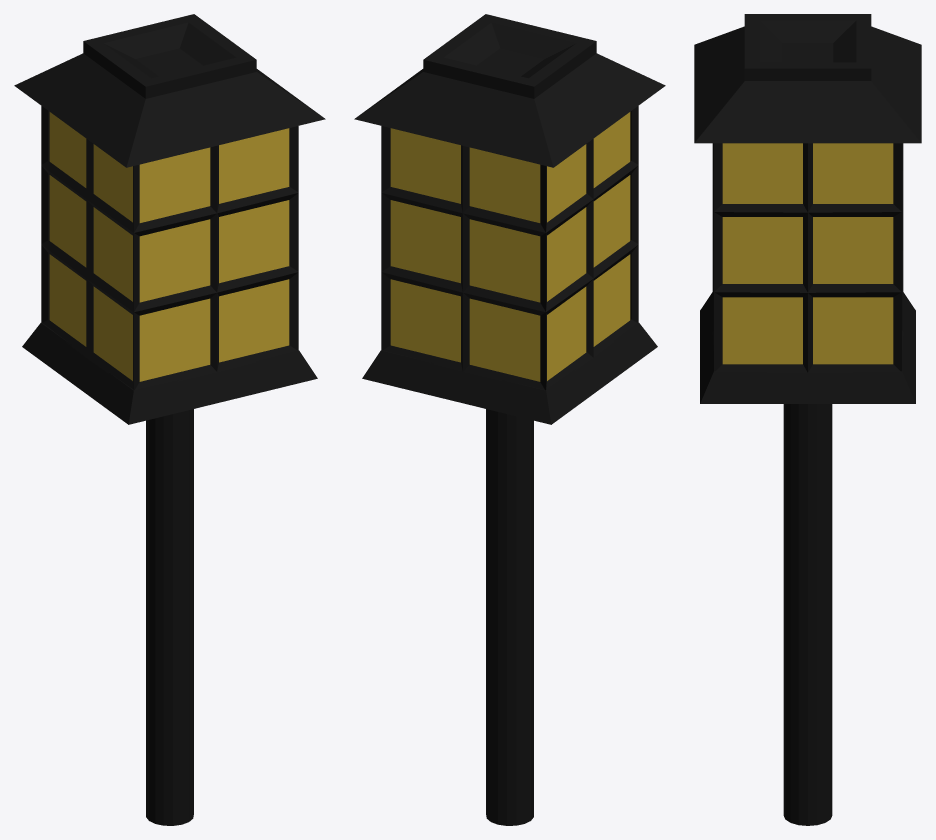
File: lamp-jardin.obj
3 renders of one model, left to right at view 1: azimuth 30°, elevation 25°; view 2: azimuth 150°, elevation 25°; view 3: azimuth 270°, elevation 25°, orthographic.
Visible parts, largest first — view 1: Cube.003, Cube.004, Cylinder, Cube.001, Cube.005; view 2: Cube.003, Cube.004, Cylinder, Cube.001, Cube.005; view 3: Cube.003, Cube.004, Cylinder, Cube.001, Cube.005.
Boxes of the visible parts, x1=… form: Cube.003: x1=49, y1=112, x2=289, y2=381; Cube.004: x1=14, y1=14, x2=325, y2=167; Cylinder: x1=146, y1=409, x2=193, y2=825; Cube.001: x1=41, y1=106, x2=298, y2=390; Cube.005: x1=22, y1=322, x2=317, y2=424; Cube.003: x1=390, y1=112, x2=630, y2=381; Cube.004: x1=354, y1=14, x2=665, y2=167; Cylinder: x1=486, y1=409, x2=533, y2=825; Cube.001: x1=381, y1=106, x2=638, y2=390; Cube.005: x1=362, y1=322, x2=657, y2=424; Cube.003: x1=722, y1=143, x2=893, y2=364; Cube.004: x1=694, y1=14, x2=921, y2=143; Cylinder: x1=783, y1=404, x2=832, y2=825; Cube.001: x1=712, y1=143, x2=903, y2=372; Cube.005: x1=700, y1=292, x2=915, y2=403.
Bounding box in the file's own units: 1.24 × 4.56 × 1.21.
